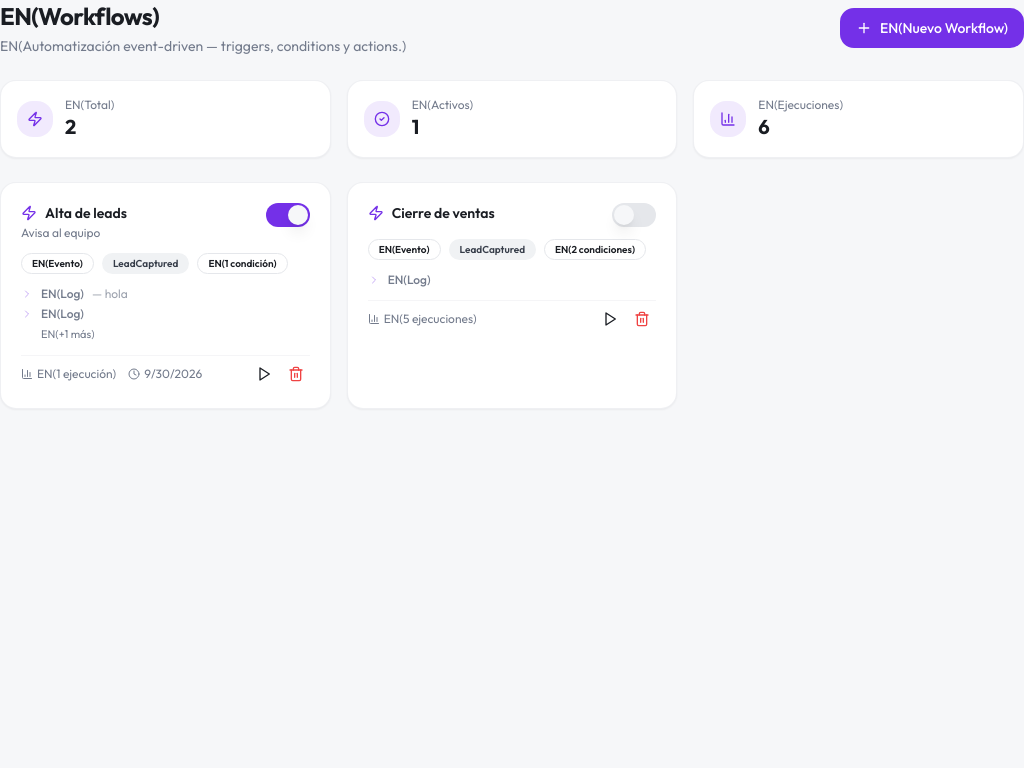
it: Workflows, in a second language › has no string left outside the catalogue in the run history
Check: the text "Alta de leads" is shown, box 45,203 -> 127,223
Click the button named "EN(Ver ejecuciones)" next to "9/30/2026": (264, 374) 250,360 -> 278,388
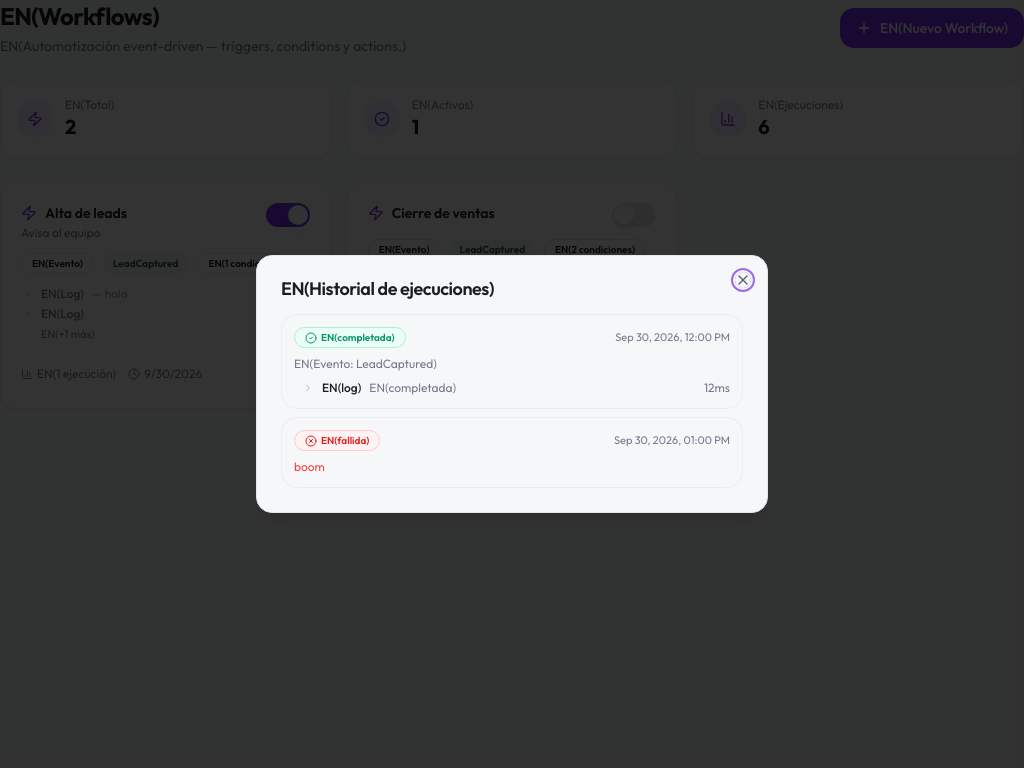
Check: the heading "EN(Historial de ejecuciones)" is shown, box 281,277 -> 494,300
Check: the text "EN(fallida)" is shown, box 294,430 -> 380,451
